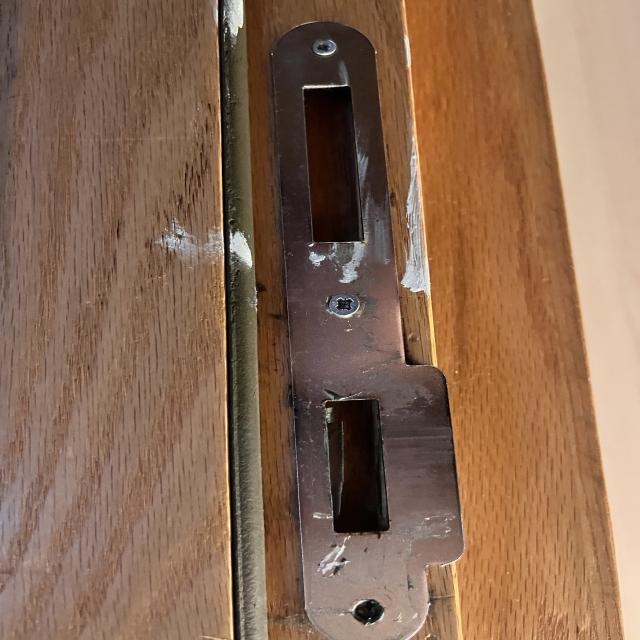pozidriv: (328, 293, 360, 316)
